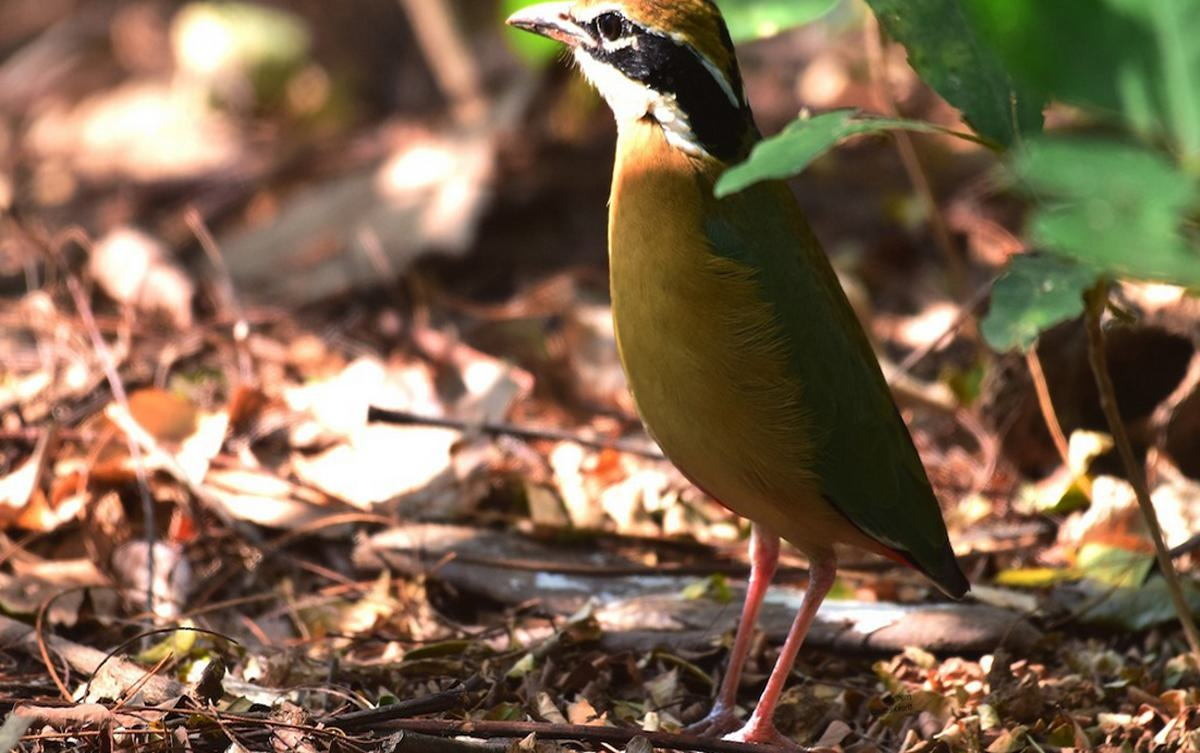pitta: (481, 2, 1081, 638)
